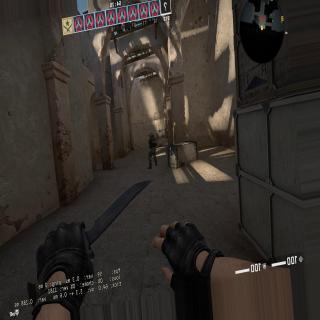CT-Body: (146, 130, 157, 169)
CT-Head: (149, 130, 152, 136)
